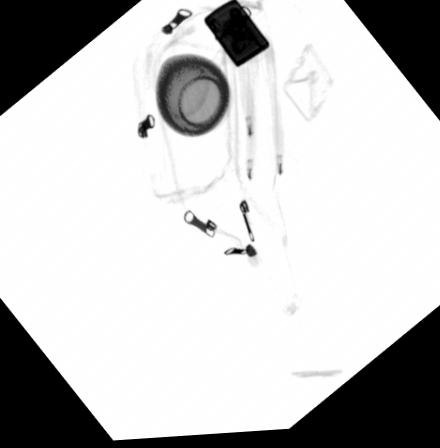Lighter: (203, 0, 268, 71)
